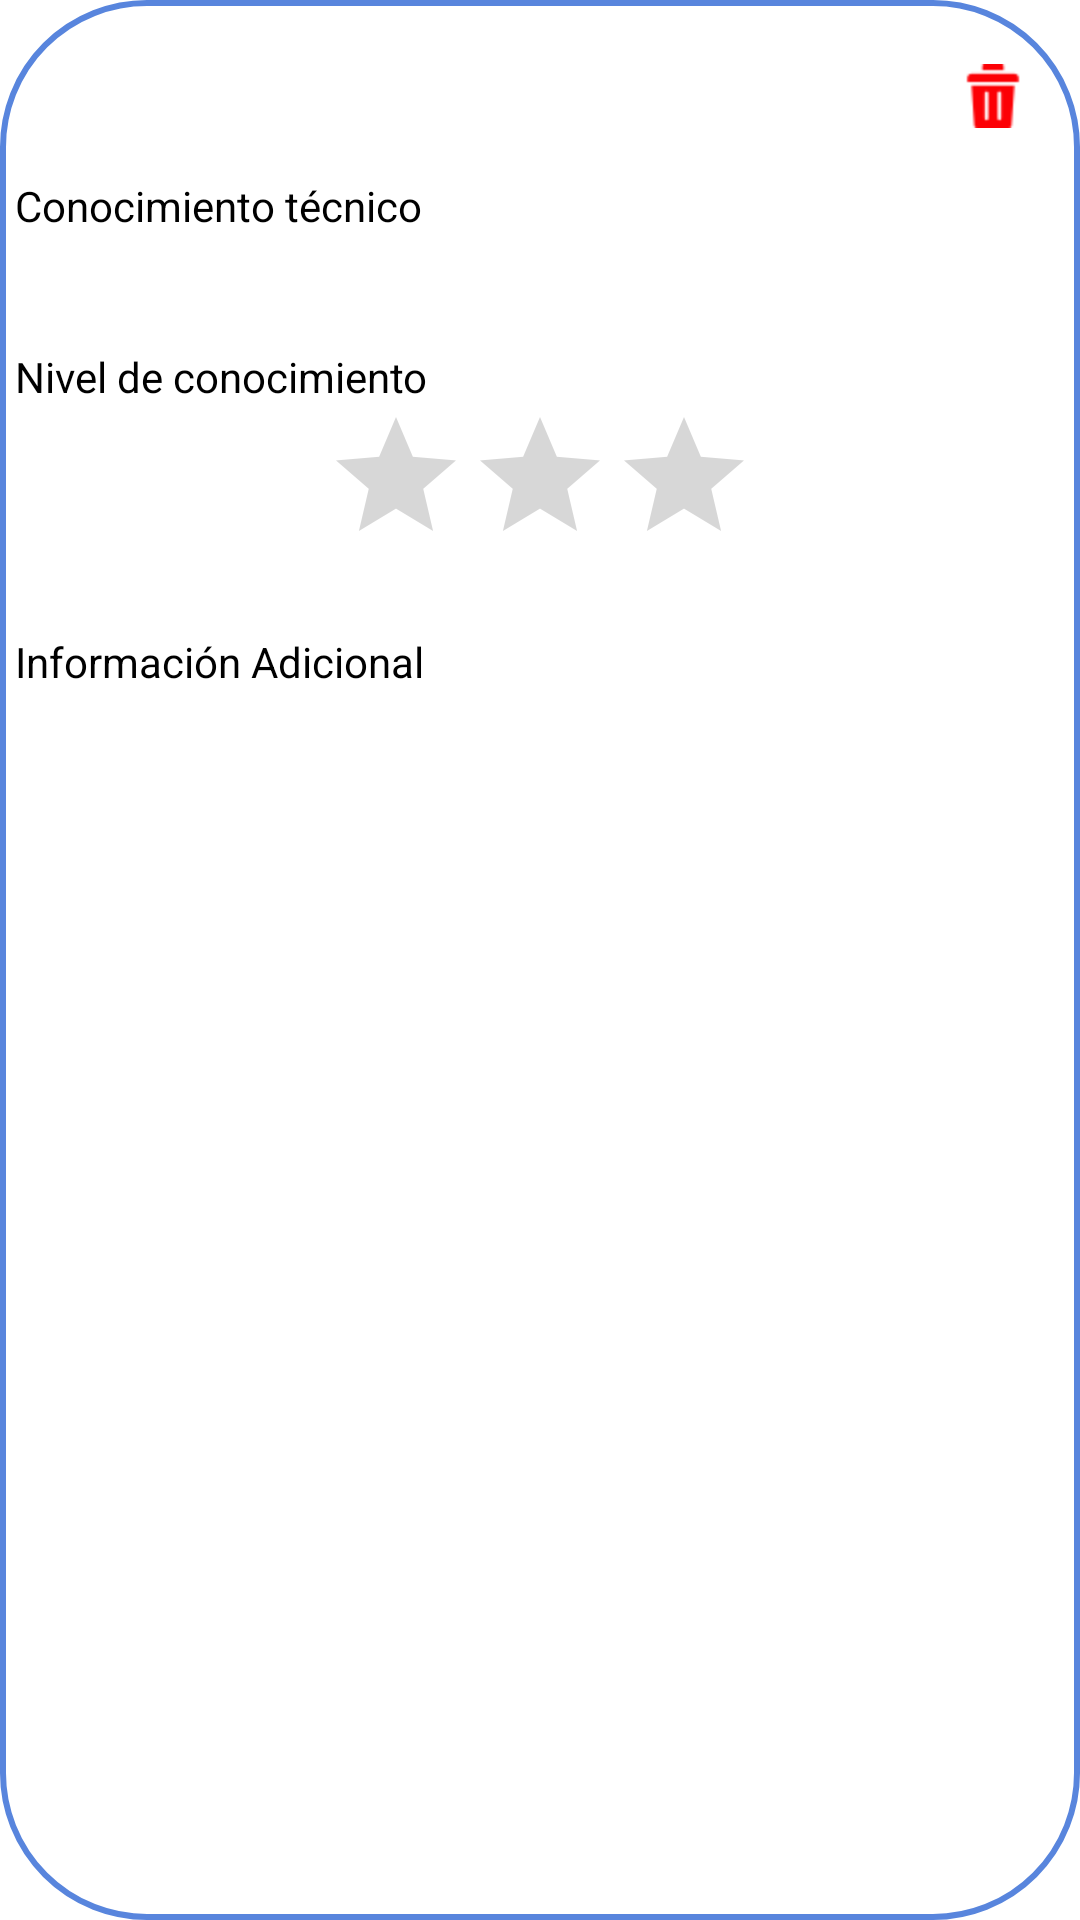

Icons on this 1080px×1920px Android screen, each with its box as detection(x1, y1, x2, y2):
deleteicon: detection(966, 64, 1020, 128)
